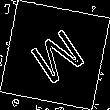M_SE: (22, 21, 88, 89)
